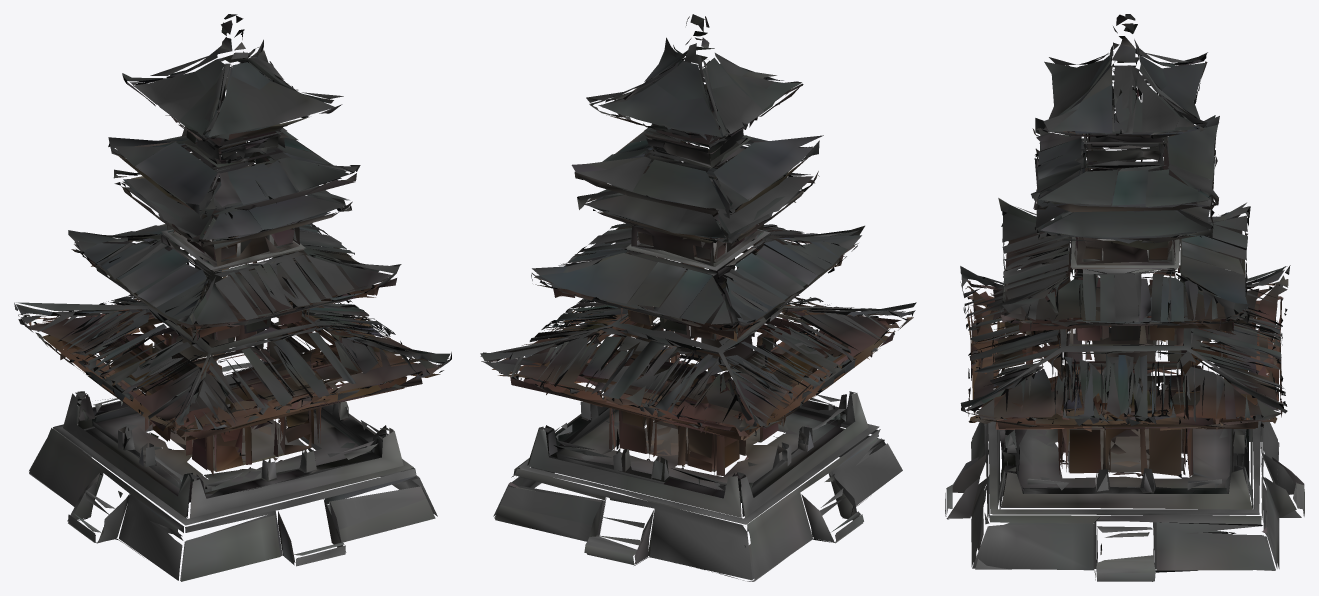
The model's file is calodan-pagoda.lo.glb.
The picture shows the model from 3 angles, left to right: view 1: azimuth 30°, elevation 25°; view 2: azimuth 150°, elevation 25°; view 3: azimuth 270°, elevation 25°; orthographic projection. The views are drawn at different scales.
Parts seen in each view (by area): view 1: low; view 2: low; view 3: low.
Part boxes in pixels (box(x1,y1,x2,y2)): low: box(14, 14, 451, 581); low: box(480, 14, 916, 581); low: box(945, 14, 1304, 581).
Size of the model in its own units: 0.6639 by 1 by 0.6638.
Materials: 1 (1 with a texture image).
